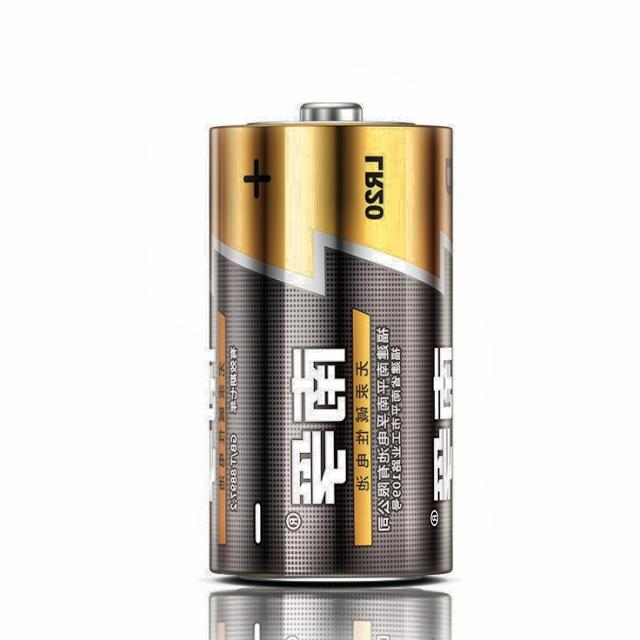Non-Valuable Waste - Batteries: (210, 107, 453, 580)
